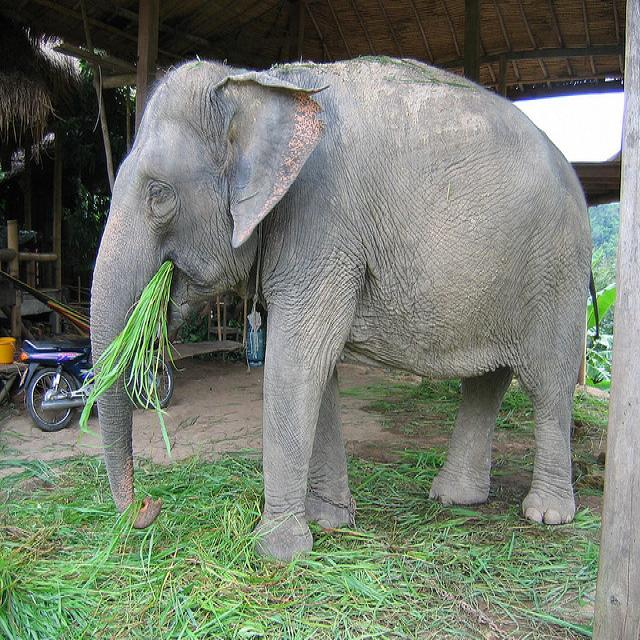motor: (17, 336, 174, 436)
